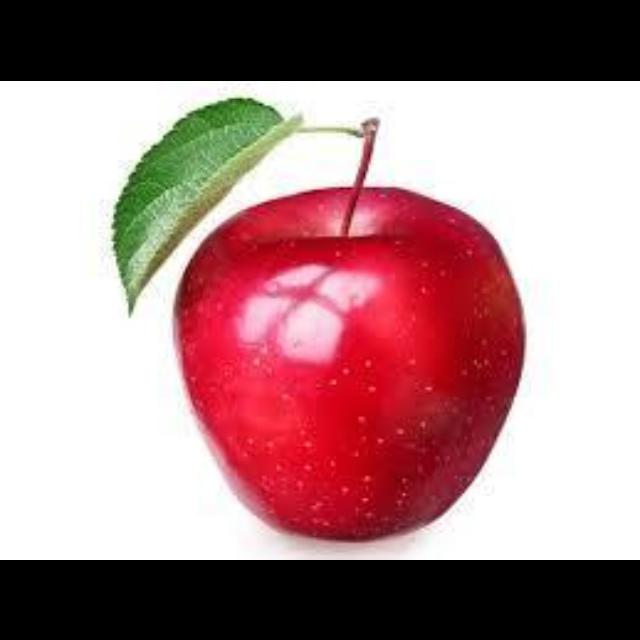apple: (175, 186, 521, 537)
